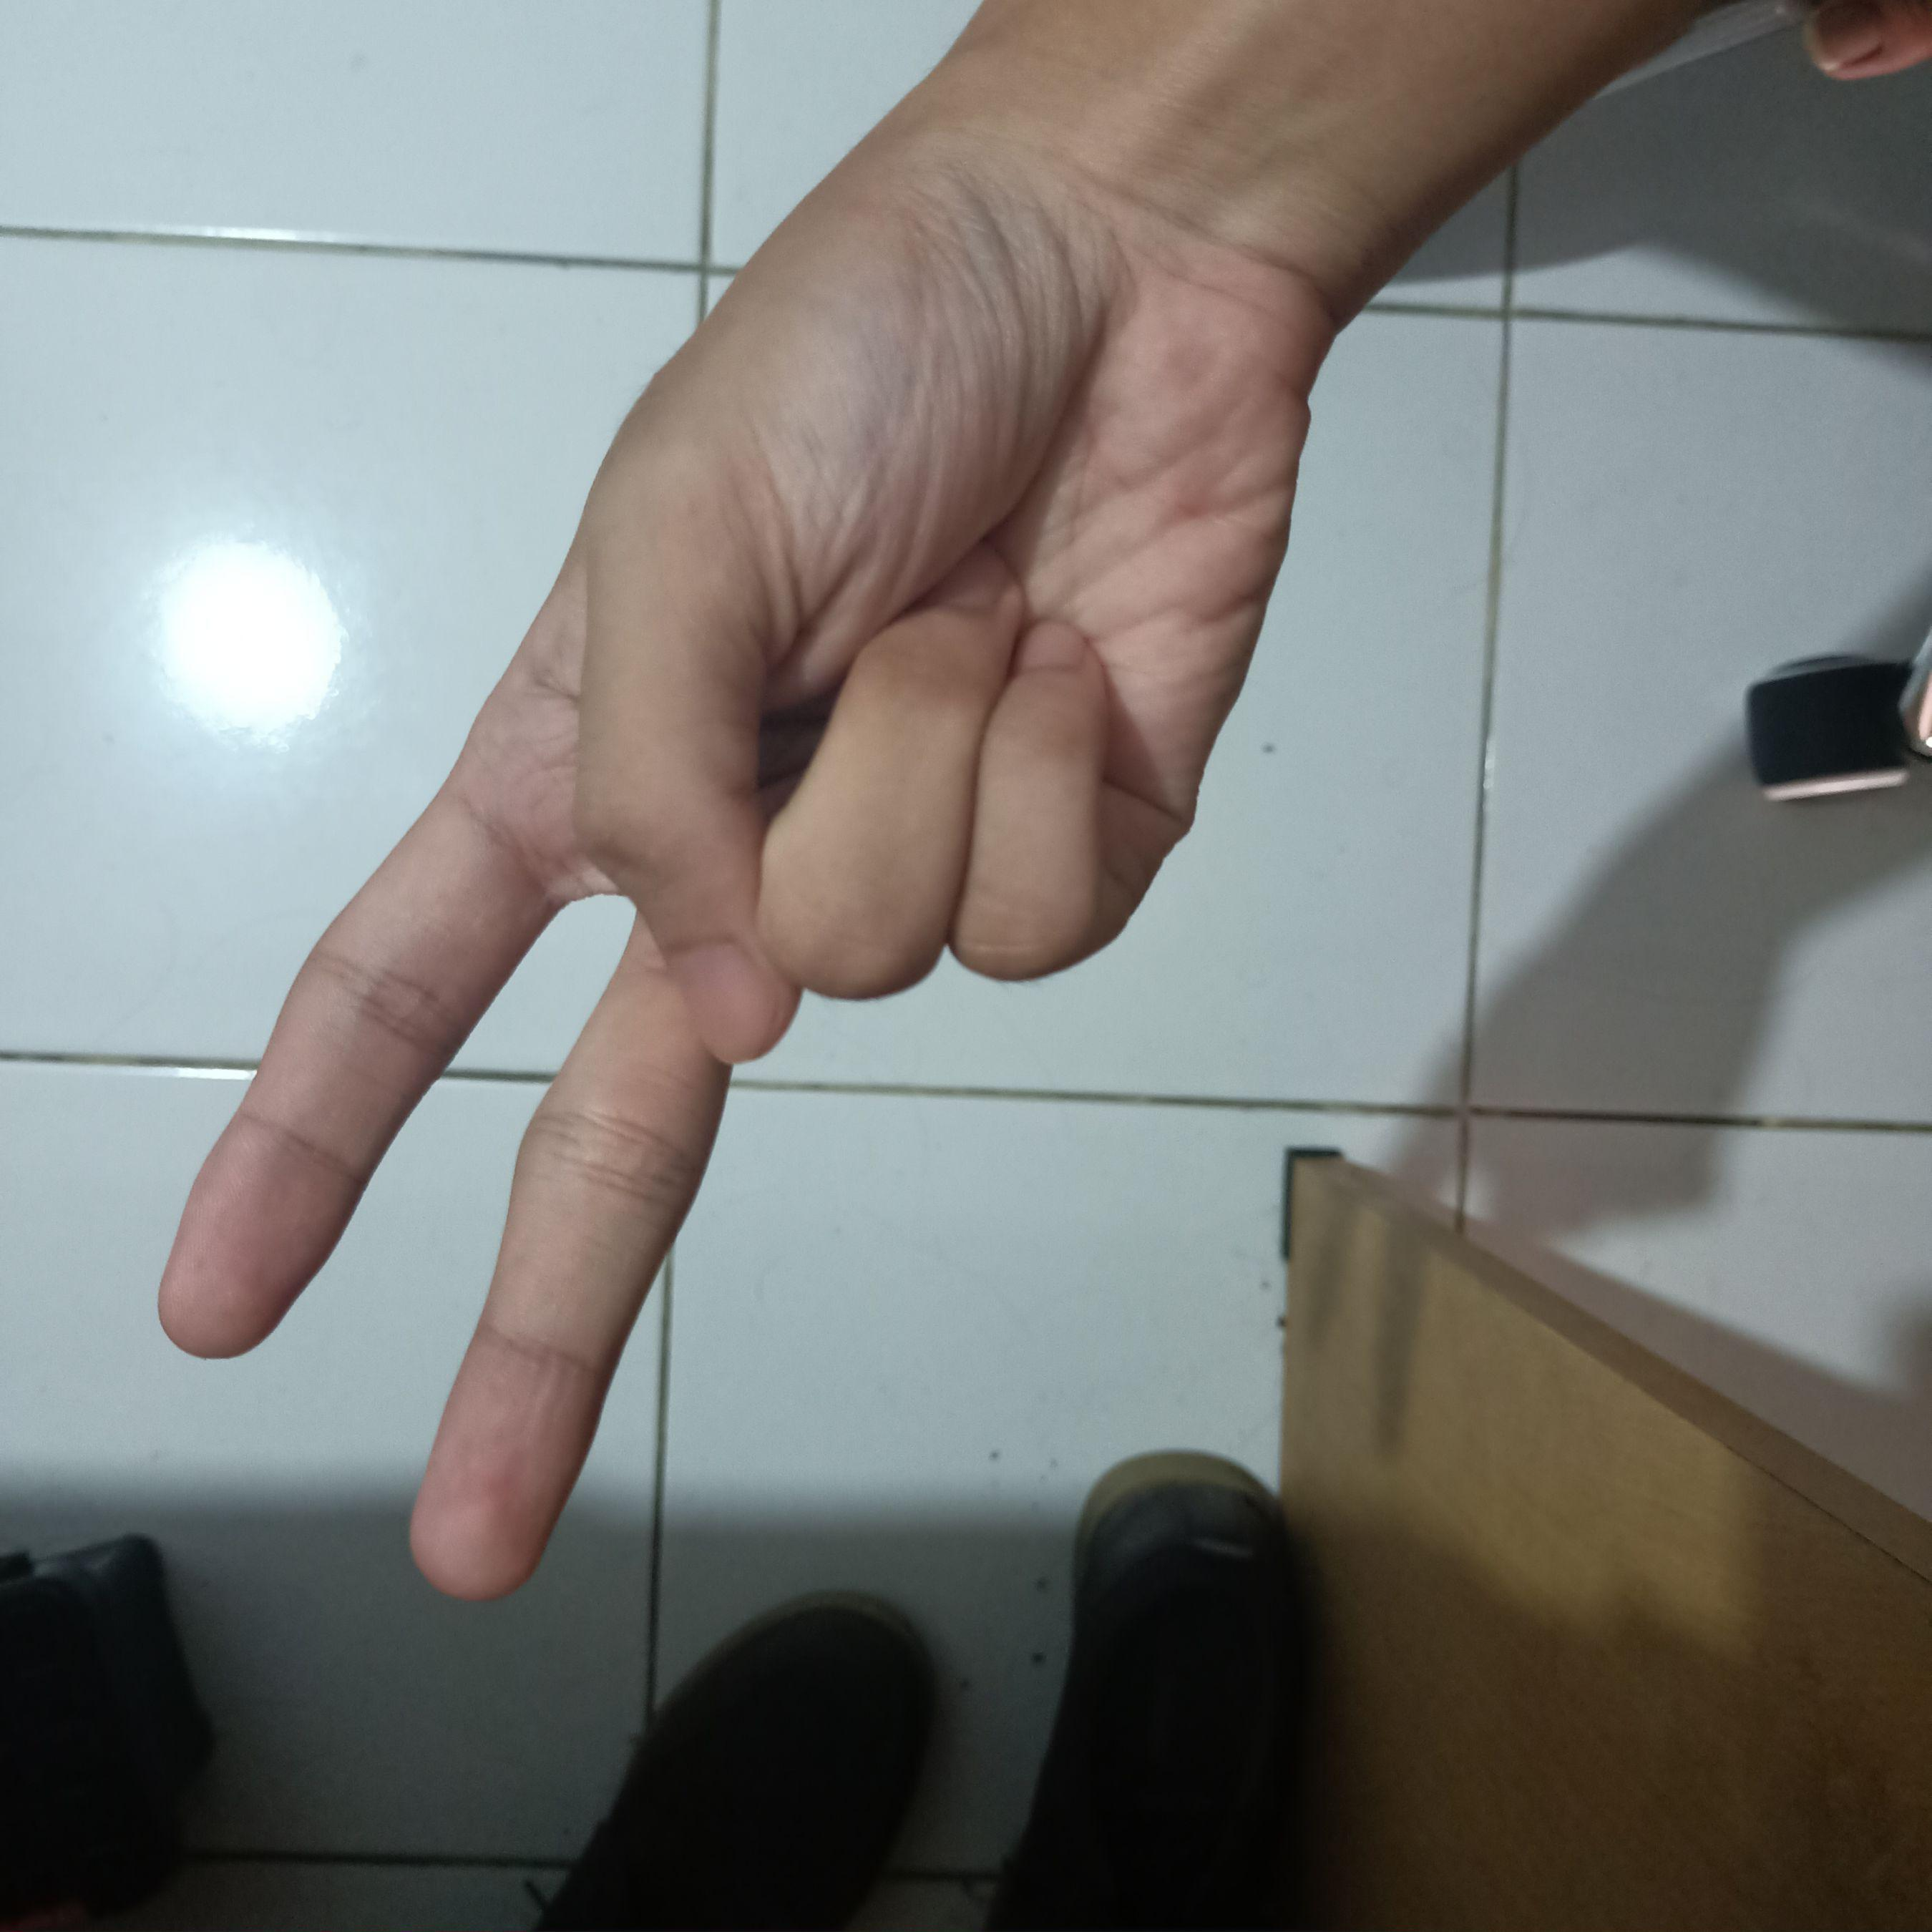scissors: (108, 133, 1362, 1626)
